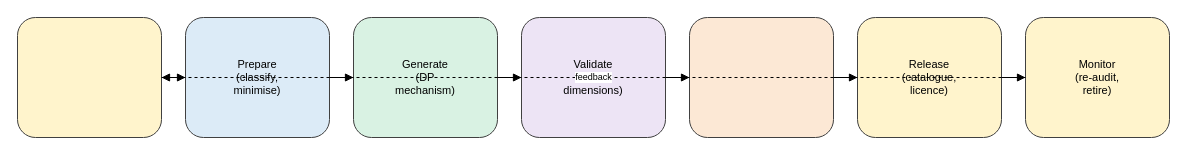
Image size: 1187x155. Some labels were removed from this diagram. The box of each missing label's shape, as (x1, y1, x2, y2) in pixels:
Explain (LLM + human review): (688, 16, 834, 138)
Plan (purpose, DPIA, budget): (16, 16, 162, 138)
